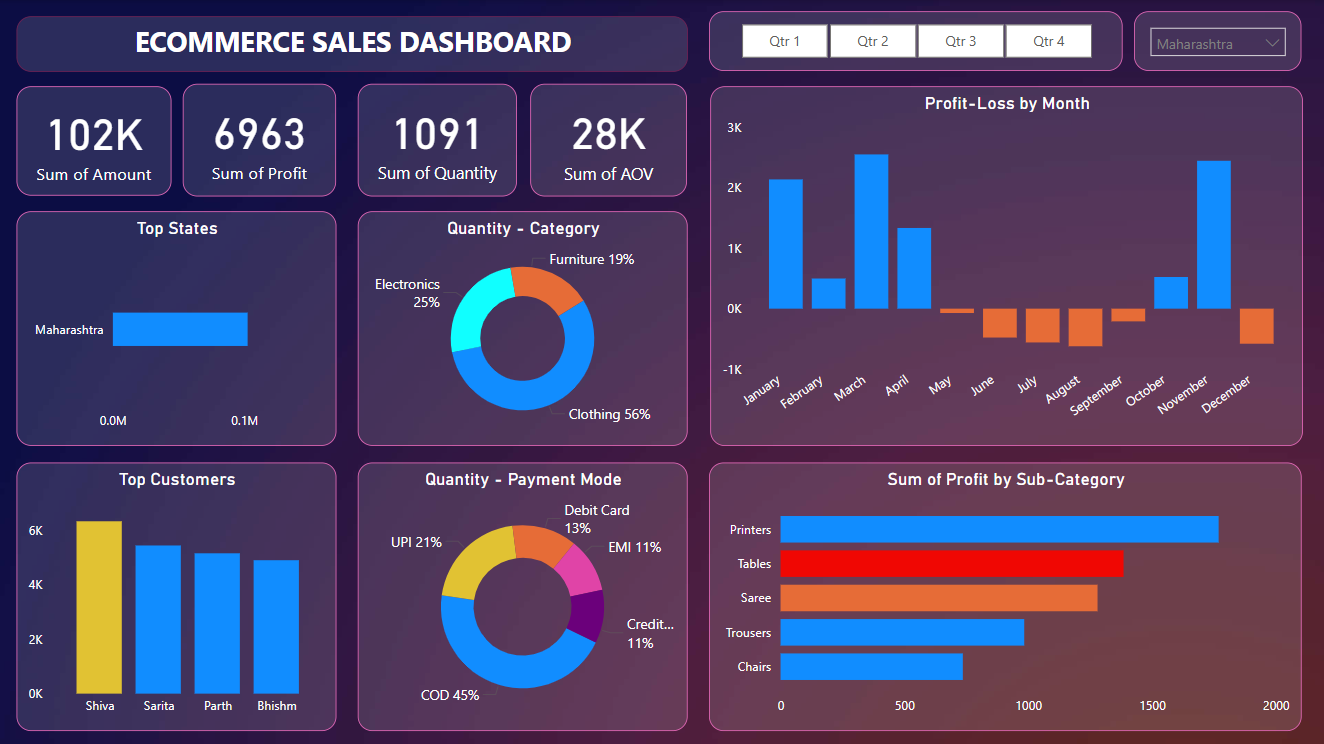

Layout of this report page (visuals, bound fields, positions):
{"tool":"powerbi","page":{"name":"Page 1","canvas":[1280,720],"ordinal":0},"visuals":[{"type":"textbox","title":"ECOMMERCE SALES DASHBOARD","box":[16.5,15.1,647.7,53.5],"z":0},{"type":"columnChart","title":"Profit-Loss by Month","fields":{"Y":["Sum(Details.Profit)"],"Category":["Orders.Order Date.Variation.Date Hierarchy.Month"]},"box":[686.1,83.7,572.2,347.2],"z":1000},{"type":"clusteredBarChart","fields":{"Category":["Details.Sub-Category"],"Y":["Sum(Details.Profit)"]},"box":[684.7,446,572.2,259.3],"z":2000},{"type":"donutChart","title":"Quantity - Category","fields":{"Y":["Sum(Details.Quantity)"],"Category":["Details.Category"]},"box":[345.8,204.5,318.4,226.4],"z":3000},{"type":"donutChart","title":"Quantity - Payment Mode","fields":{"Y":["Sum(Details.Quantity)"],"Category":["Details.PaymentMode"]},"box":[345.8,446,318.4,259.3],"z":4000},{"type":"card","fields":{"Values":["Sum(Details.Amount)"]},"box":[16.5,83.7,149.6,105.7],"z":5000},{"type":"card","fields":{"Values":["Sum(Details.Profit)"]},"box":[177,81,148.2,108.4],"z":6000},{"type":"card","fields":{"Values":["Sum(Details.Quantity)"]},"box":[345.8,81,153.7,108.4],"z":7000},{"type":"card","fields":{"Values":["Sum(Details.AOV)"]},"box":[513.2,81,150.9,108.4],"z":8000},{"type":"clusteredBarChart","title":"Top States","fields":{"Category":["Orders.State"],"Y":["Sum(Details.Amount)"]},"box":[16.5,204.5,308.7,226.4],"z":9000},{"type":"columnChart","title":"Top Customers","fields":{"Category":["Orders.CustomerName"],"Y":["Sum(Details.Amount)"]},"box":[16.5,446,308.7,259.3],"z":10000},{"type":"slicer","fields":{"Values":["Orders.Order Date.Variation.Date Hierarchy.Quarter"]},"box":[684.7,11,399.3,57.6],"z":10001},{"type":"slicer","fields":{"Values":["Orders.State"]},"box":[1095,11,161.9,57.6],"z":10002}]}

Visuals, with their boxes in screenshot pixels (x1, y1, x2, y2), scaled from the page's 1280x720 canvas onto the 1324x744 screenshot:
"ECOMMERCE SALES DASHBOARD" textbox: (left=17, top=16, right=687, bottom=71)
"Profit-Loss by Month" columnChart: (left=710, top=86, right=1302, bottom=445)
clusteredBarChart - Details.Sub-Category x Sum(Details.Profit): (left=708, top=461, right=1300, bottom=729)
"Quantity - Category" donutChart: (left=358, top=211, right=687, bottom=445)
"Quantity - Payment Mode" donutChart: (left=358, top=461, right=687, bottom=729)
card - Sum(Details.Amount): (left=17, top=86, right=172, bottom=196)
card - Sum(Details.Profit): (left=183, top=84, right=336, bottom=196)
card - Sum(Details.Quantity): (left=358, top=84, right=517, bottom=196)
card - Sum(Details.AOV): (left=531, top=84, right=687, bottom=196)
"Top States" clusteredBarChart: (left=17, top=211, right=336, bottom=445)
"Top Customers" columnChart: (left=17, top=461, right=336, bottom=729)
slicer - Orders.Order Date.Variation.Date Hierarchy.Quarter: (left=708, top=11, right=1121, bottom=71)
slicer - Orders.State: (left=1133, top=11, right=1300, bottom=71)
